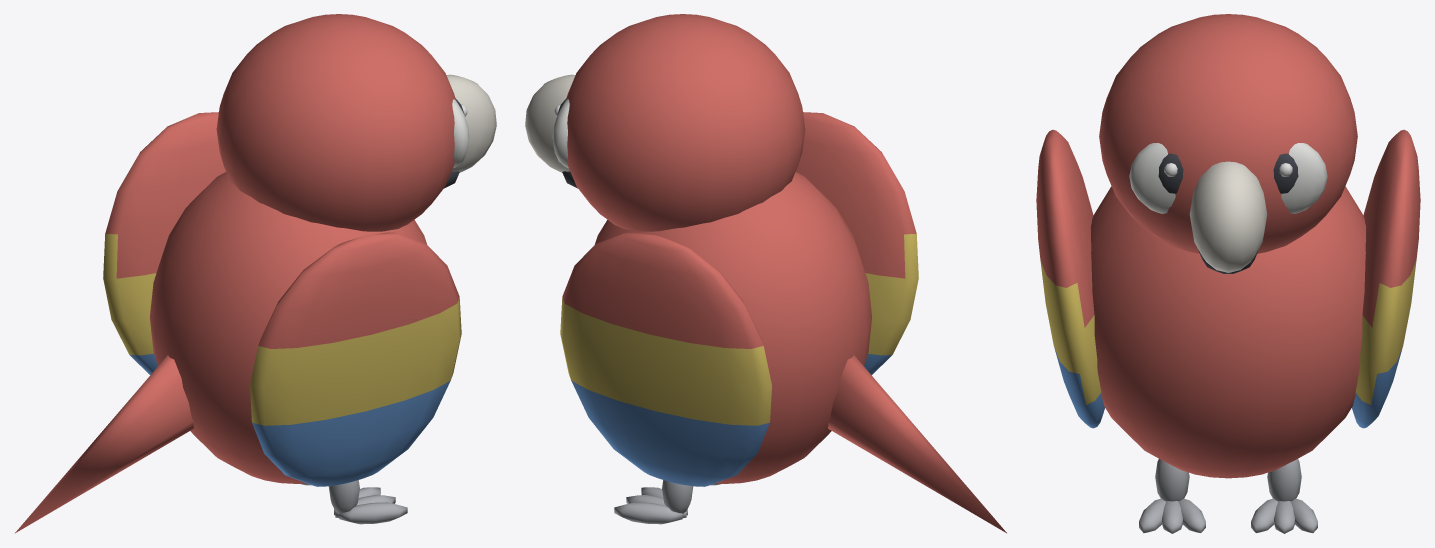
File: parrot.glb
3 renders of one model, left to right at view 1: azimuth 30°, elevation 25°; view 2: azimuth 150°, elevation 25°; view 3: azimuth 270°, elevation 25°, orthographic. The views are drawn at different scales.
Visible parts, largest first — view 1: Head, WingR, Body, WingL, FootR; view 2: Head, WingL, Body, WingR, FootL; view 3: Body, Head, WingL, WingR, FootL, FootR.
Part boxes in pixels (x1,y1,x2,y2): Head: (216,14,496,231); WingR: (250,232,461,486); Body: (15,172,427,533); WingL: (103,112,225,375); FootR: (328,480,407,524); Head: (525,14,805,231); WingL: (560,232,771,486); Body: (594,172,1006,533); WingR: (796,112,918,375); FootL: (614,480,693,524); Body: (1090,186,1366,478); Head: (1099,14,1357,273); WingL: (1352,129,1420,428); WingR: (1036,129,1104,428); FootL: (1251,459,1317,533); FootR: (1139,459,1205,533).
Size of the model in its own units: 1.36 by 1.27 by 0.8911.
